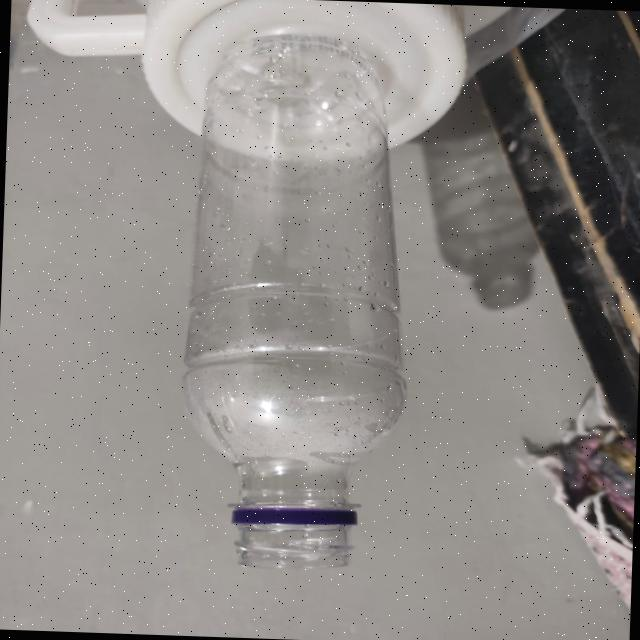bottle: (175, 29, 407, 580)
